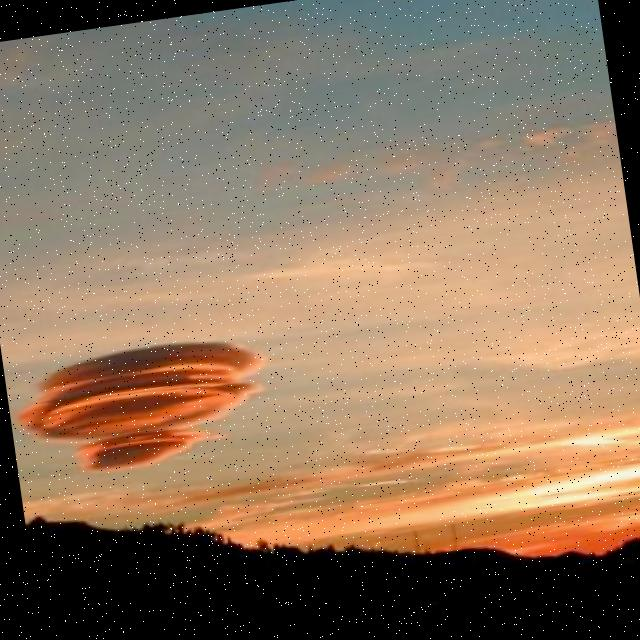Ac: (7, 326, 285, 498)
